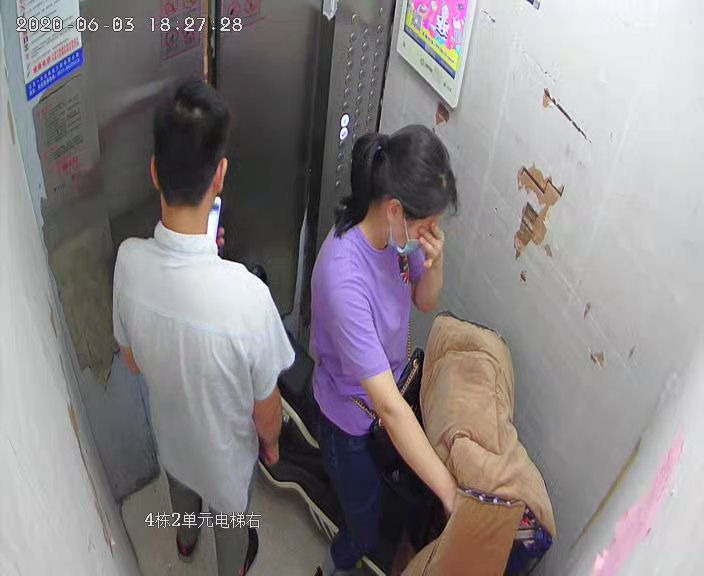Electric-bicycle: (241, 322, 557, 572)
